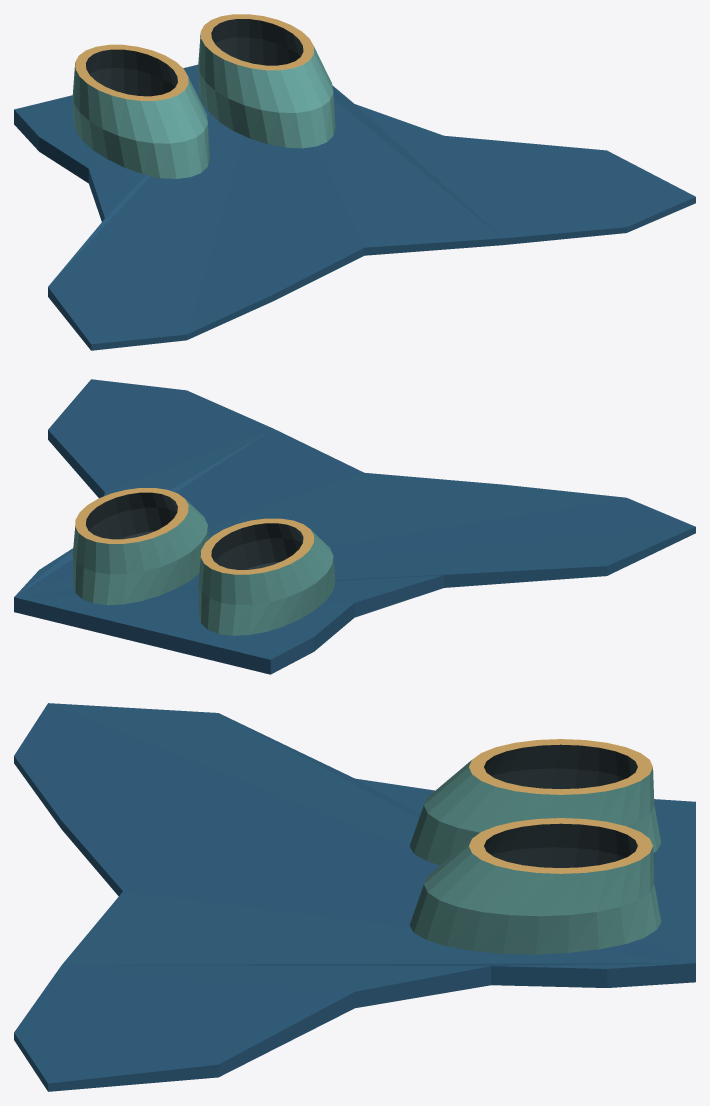
3 views of the same model, one above another, from view 1: azimuth 30°, elevation 25°; view 2: azimuth 150°, elevation 25°; view 3: azimuth 270°, elevation 25° (orthographic). The views are drawn at different scales.
Parts seen in each view (by area): view 1: WholeSweptNotchedTwinFootFluke, WholeOpenFootPocket1, WholeOpenFootPocket0; view 2: WholeSweptNotchedTwinFootFluke, WholeOpenFootPocket0, WholeOpenFootPocket1; view 3: WholeSweptNotchedTwinFootFluke, WholeOpenFootPocket1, WholeOpenFootPocket0.
Part boxes in pixels (x1=…): WholeSweptNotchedTwinFootFluke: x1=14, y1=64, x2=695, y2=350; WholeOpenFootPocket1: x1=198, y1=14, x2=335, y2=148; WholeOpenFootPocket0: x1=72, y1=44, x2=209, y2=178; WholeSweptNotchedTwinFootFluke: x1=14, y1=379, x2=695, y2=674; WholeOpenFootPocket0: x1=198, y1=518, x2=335, y2=635; WholeOpenFootPocket1: x1=72, y1=488, x2=208, y2=605; WholeSweptNotchedTwinFootFluke: x1=14, y1=703, x2=695, y2=1091; WholeOpenFootPocket1: x1=409, y1=818, x2=661, y2=954; WholeOpenFootPocket0: x1=409, y1=739, x2=661, y2=865.
Size of the model in its own units: 1.32 by 0.154 by 1.
